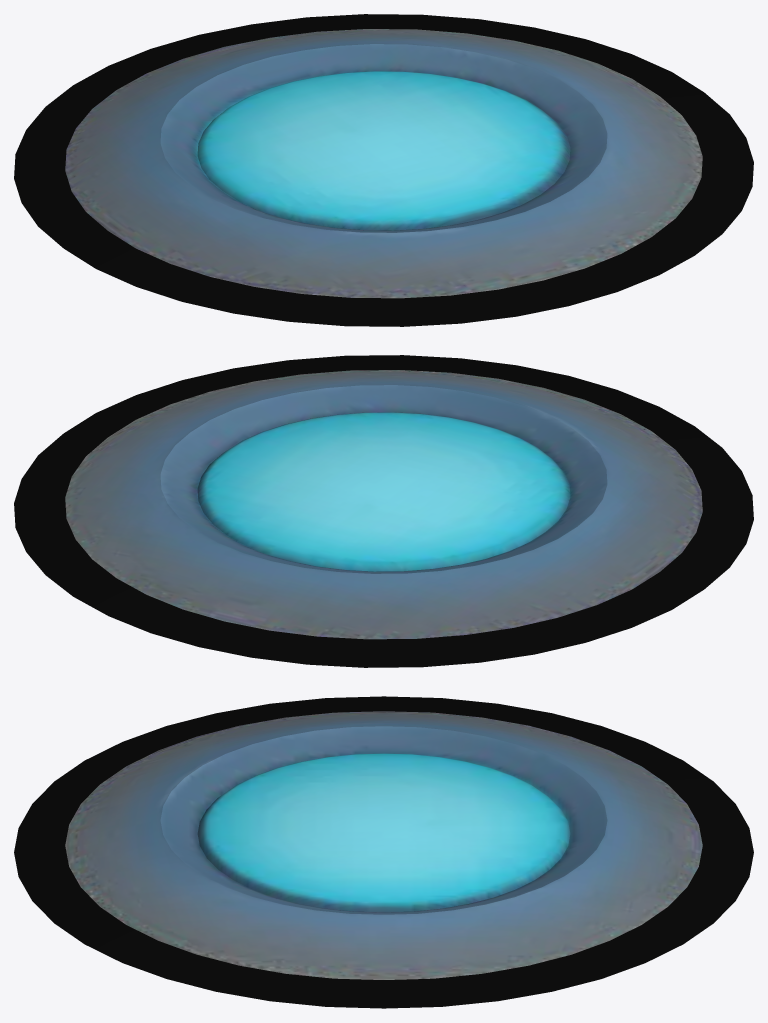
3 renders of one model, top to bottom at view 1: azimuth 30°, elevation 25°; view 2: azimuth 150°, elevation 25°; view 3: azimuth 270°, elevation 25°, orthographic.
Parts seen in each view (by area): view 1: body0_model0_lod0_mesh0; view 2: body0_model0_lod0_mesh0; view 3: body0_model0_lod0_mesh0.
Part boxes in pixels (x1,y1,x2,y2): body0_model0_lod0_mesh0: (14, 14, 753, 326); body0_model0_lod0_mesh0: (14, 355, 753, 667); body0_model0_lod0_mesh0: (14, 696, 753, 1008).
Bounding box in the file's own units: 82.26 × 3.94 × 82.42.
Materials: 1 (1 with a texture image).
